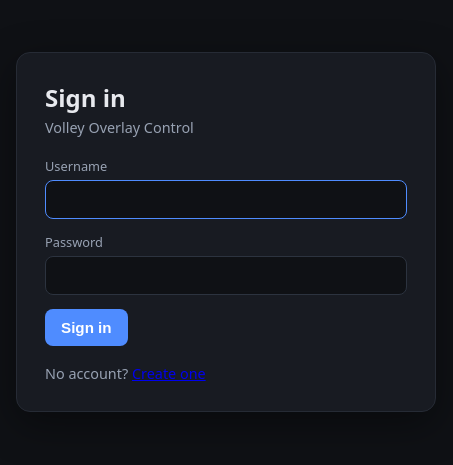
Test: LoginPage submit flows › shows the network-error copy for non-API failures
Type "alice" into the field labelled "Username" at point(226, 200), box [45,180,407,219]
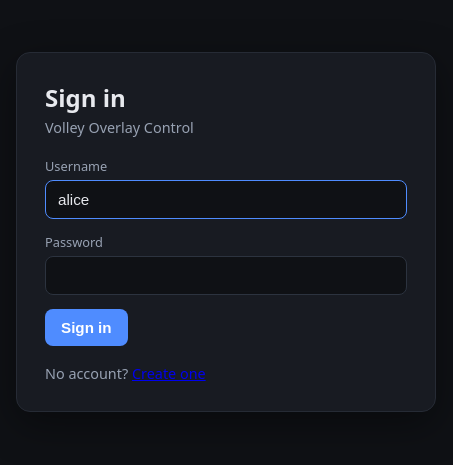
Type "secret123" into the password field labelled "Password" at point(226, 276), box [45,256,407,295]
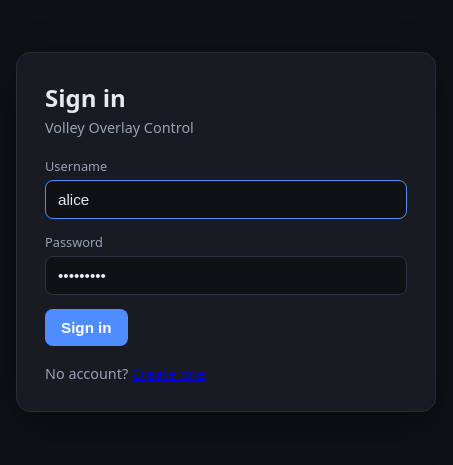
Click the button "Sign in" at point(86, 328), box [45,309,128,346]
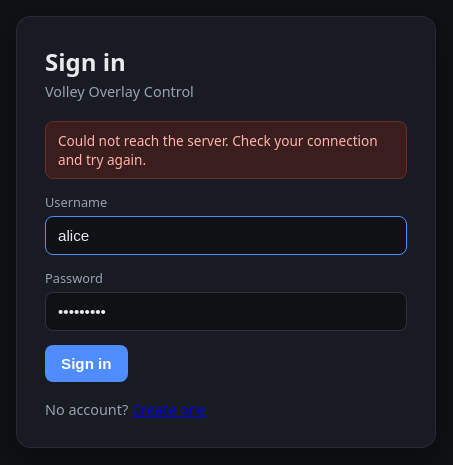
Result: the text "Could not reach the server" is shown at [58,131,378,169]
